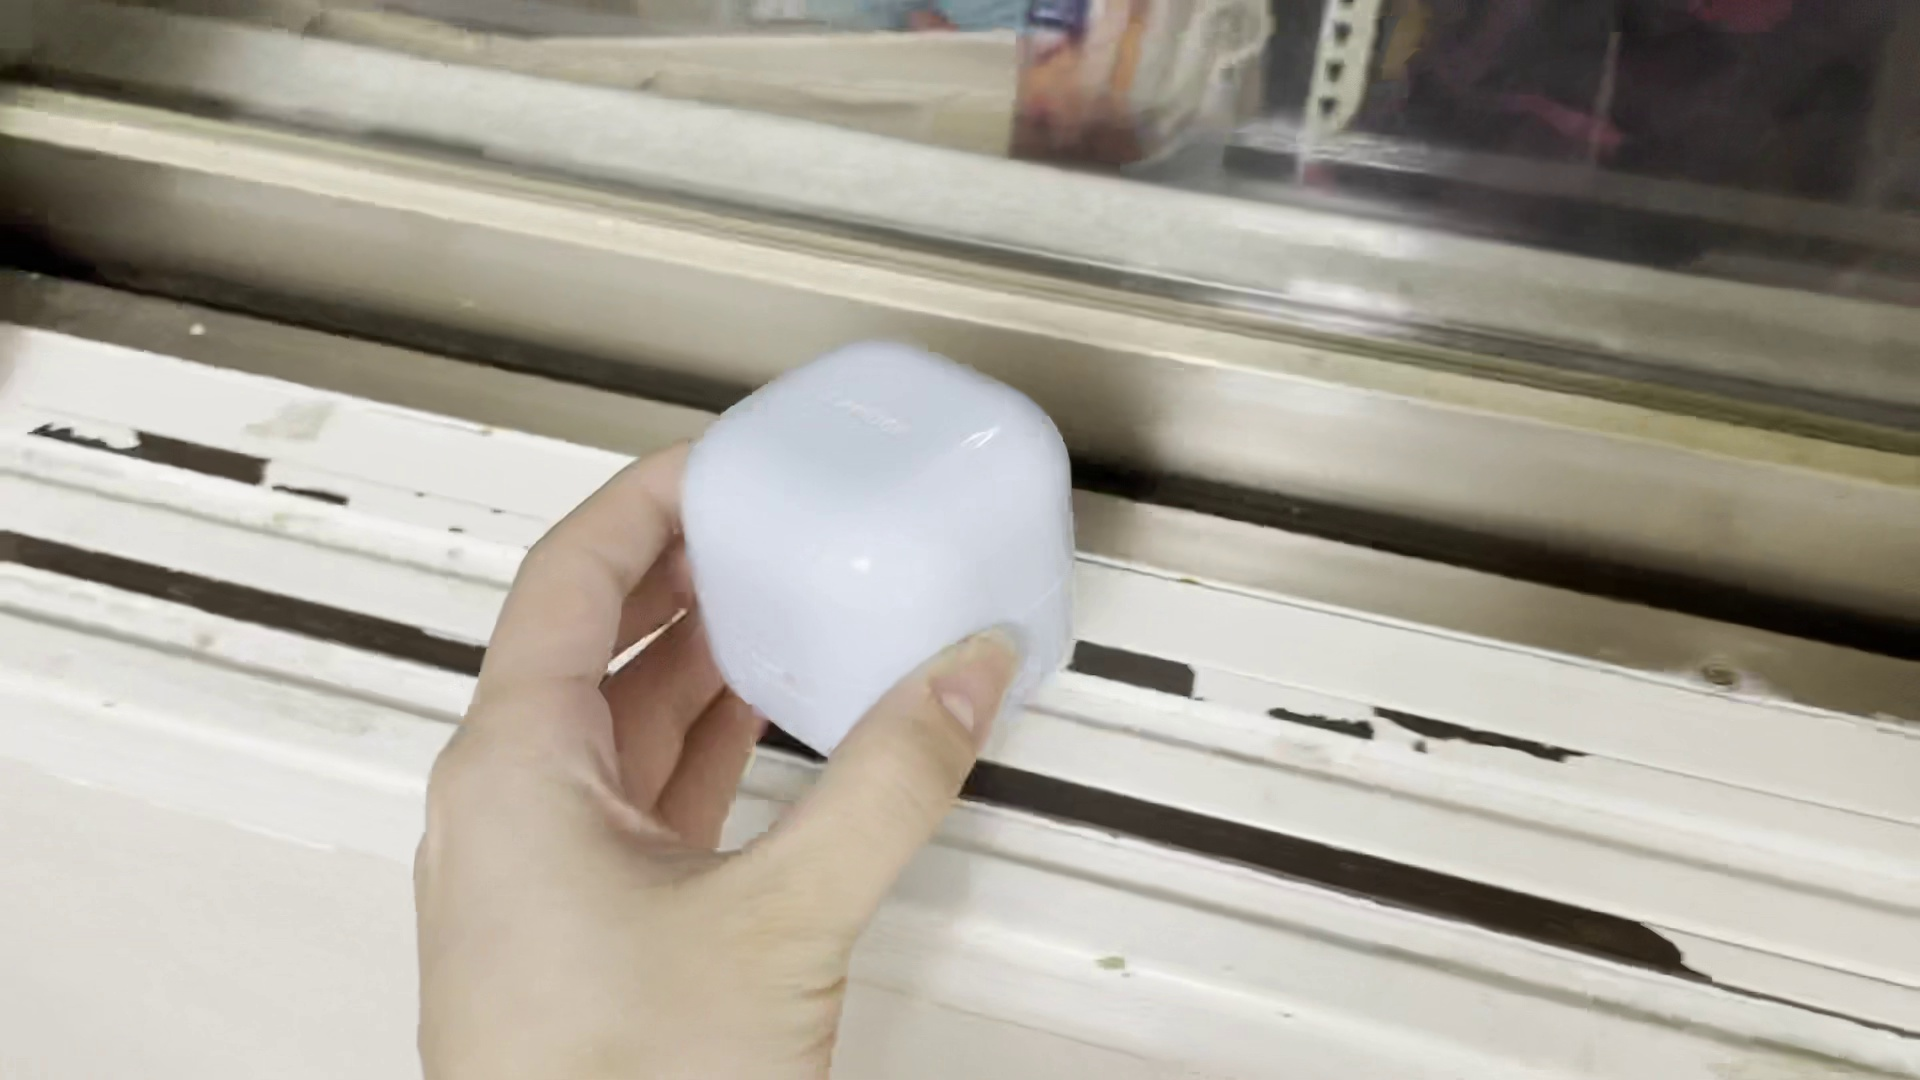cream: (684, 338, 1079, 764)
